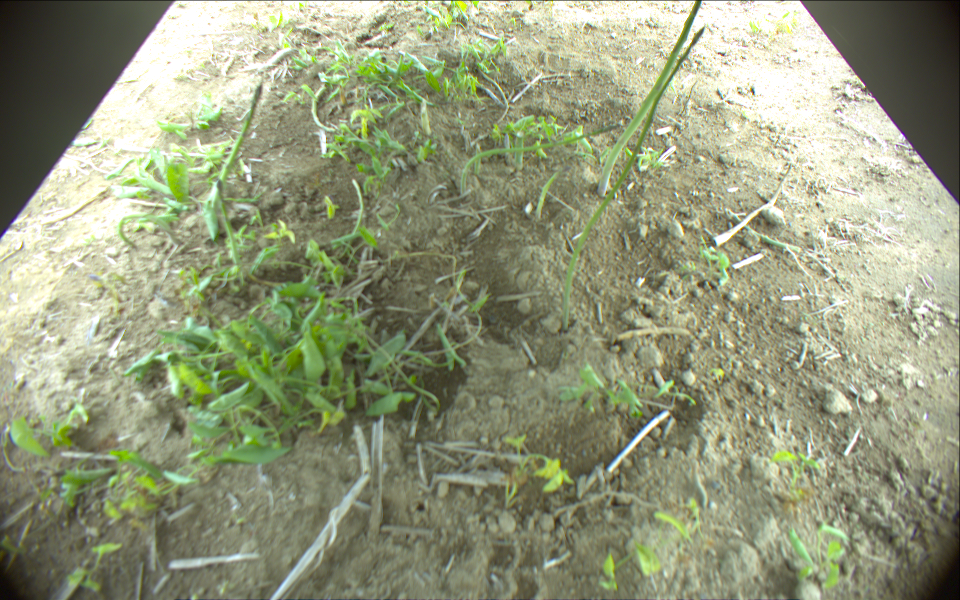aspa: (558, 28, 706, 329), (596, 1, 705, 197), (458, 117, 626, 200), (218, 84, 263, 192), (216, 180, 243, 276)
